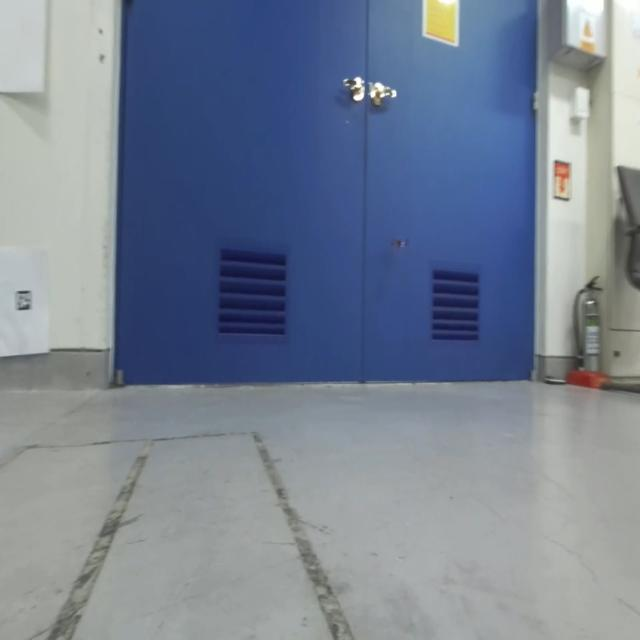crazyflie: (389, 228, 409, 255)
